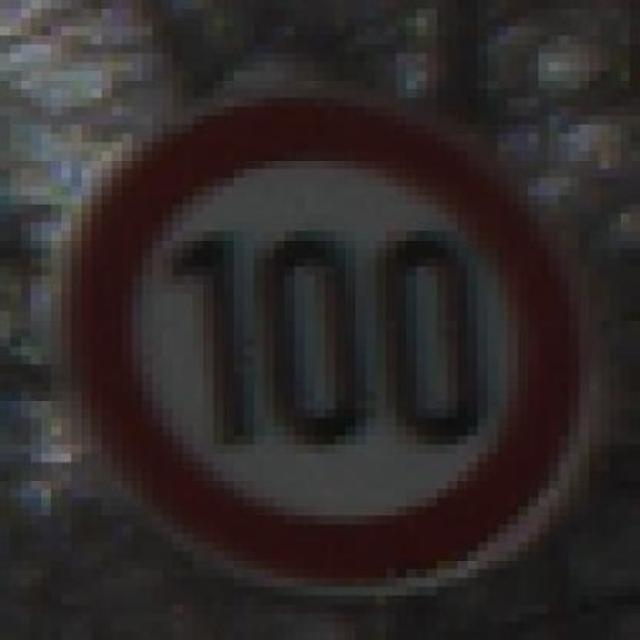forb_speed_over_100: (67, 93, 591, 595)
